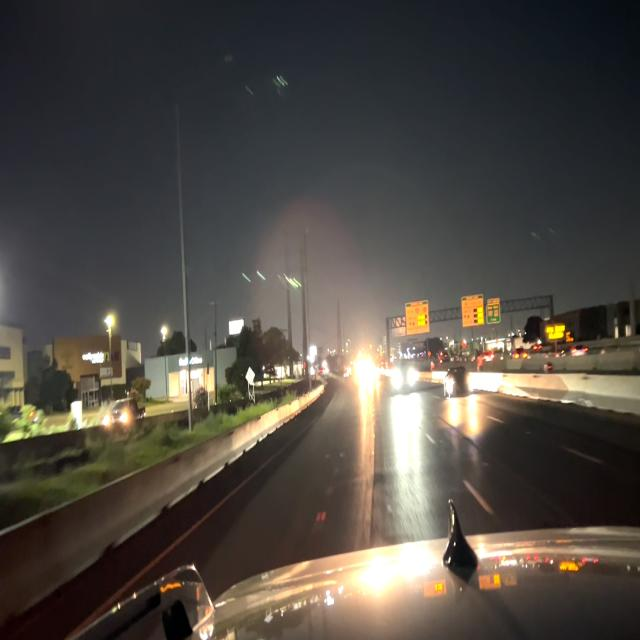back-of-sign: (391, 312, 406, 339)
